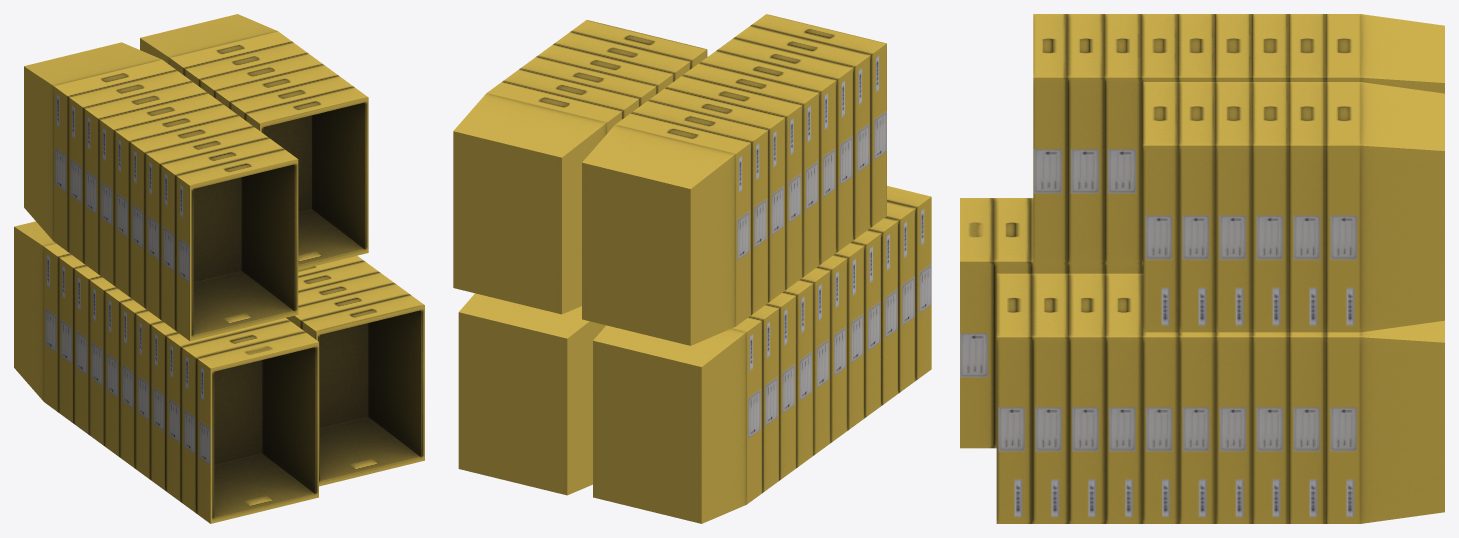
File: buckets.obj
3 renders of one model, left to right at view 1: azimuth 30°, elevation 25°; view 2: azimuth 150°, elevation 25°; view 3: azimuth 270°, elevation 25°, orthographic. The views are drawn at different scales.
Bounding box in the file's own units: 0.9411 × 1.22 × 1.4.
Materials: 1 (1 with a texture image).
